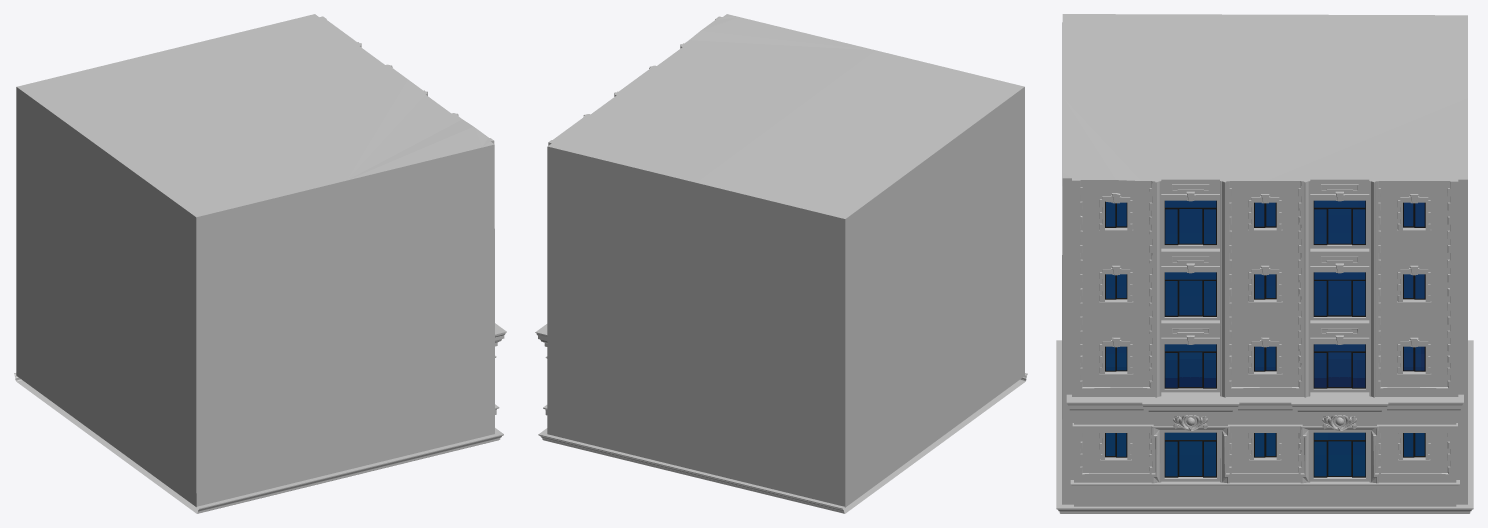
The picture shows the model from 3 angles, left to right: view 1: azimuth 30°, elevation 25°; view 2: azimuth 150°, elevation 25°; view 3: azimuth 270°, elevation 25°; orthographic projection. The views are drawn at different scales.
Visible parts, largest first — view 1: SM_Building_Facade_02a.mo; view 2: SM_Building_Facade_02a.mo; view 3: SM_Building_Facade_02a.mo.
Boxes of the visible parts, box(x1,y1,x2,y2) form: SM_Building_Facade_02a.mo: box(14, 14, 506, 513); SM_Building_Facade_02a.mo: box(535, 14, 1027, 513); SM_Building_Facade_02a.mo: box(1056, 14, 1473, 513).
Bounding box in the file's own units: 1443 × 1295 × 1466.
